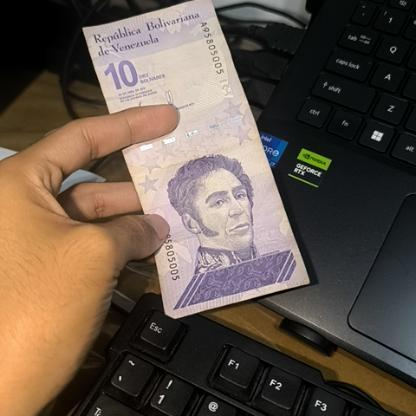ten-front-vef: (81, 0, 310, 318)
